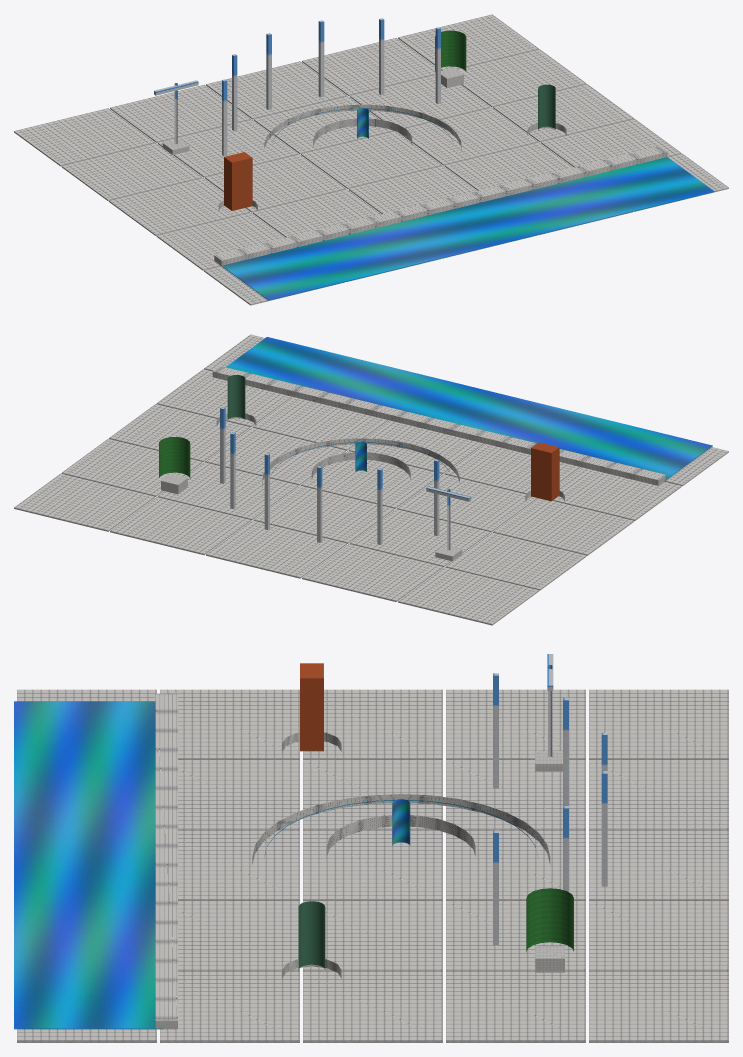
3 renders of one model, top to bottom at view 1: azimuth 30°, elevation 25°; view 2: azimuth 150°, elevation 25°; view 3: azimuth 270°, elevation 25°, orthographic. The views are drawn at different scales.
Parts seen in each view (by area): view 1: 28185_B17_CentralPark_UN_Plaza; view 2: 28185_B17_CentralPark_UN_Plaza; view 3: 28185_B17_CentralPark_UN_Plaza.
Part boxes in pixels (left/top/right/bottom): 28185_B17_CentralPark_UN_Plaza: left=14, top=14, right=728, bottom=305; 28185_B17_CentralPark_UN_Plaza: left=14, top=334, right=728, bottom=625; 28185_B17_CentralPark_UN_Plaza: left=14, top=654, right=728, bottom=1042.
Bounding box in the file's own units: 55.8 × 8.5 × 48.
1 material, 1 textured.
